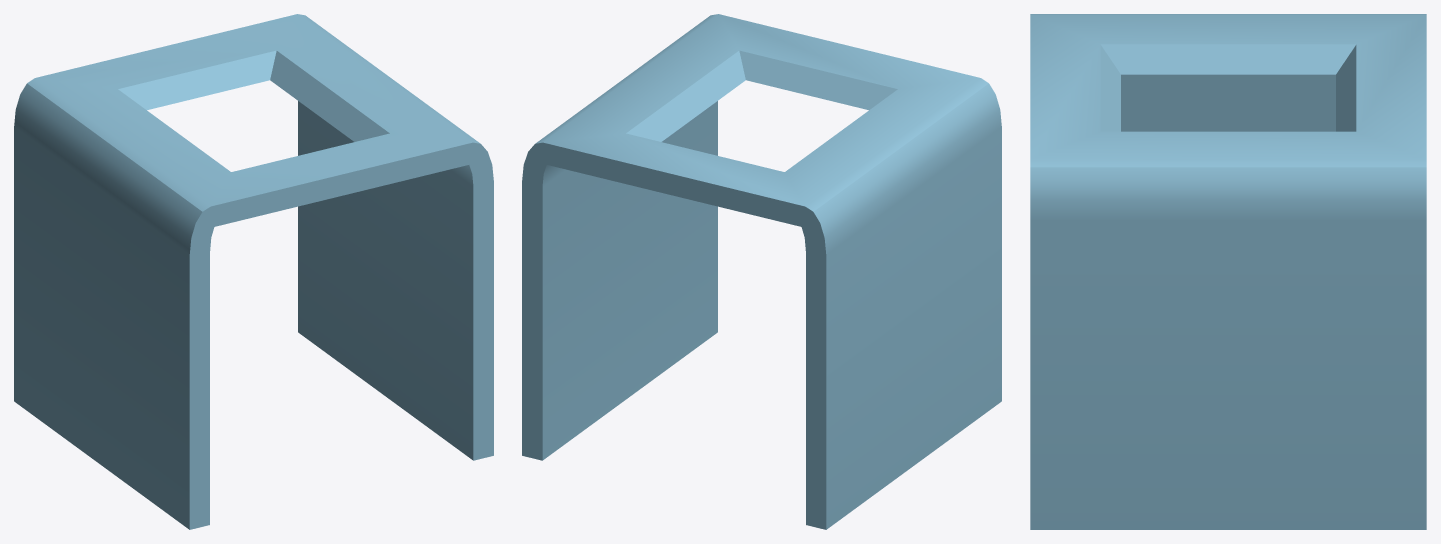
File: Props_Conveyor_Blue_Connector_01.fbx
The picture shows the model from 3 angles, left to right: view 1: azimuth 30°, elevation 25°; view 2: azimuth 150°, elevation 25°; view 3: azimuth 270°, elevation 25°; orthographic projection. The views are drawn at different scales.
Visible parts, largest first — view 1: Props_Conveyor_Blue_Connector_01; view 2: Props_Conveyor_Blue_Connector_01; view 3: Props_Conveyor_Blue_Connector_01.
Boxes of the visible parts, x1,y1,x2,y2 form: Props_Conveyor_Blue_Connector_01: [14, 14, 493, 529]; Props_Conveyor_Blue_Connector_01: [522, 14, 1001, 529]; Props_Conveyor_Blue_Connector_01: [1030, 14, 1426, 529].
Size of the model in its own units: 100 by 100 by 100.
